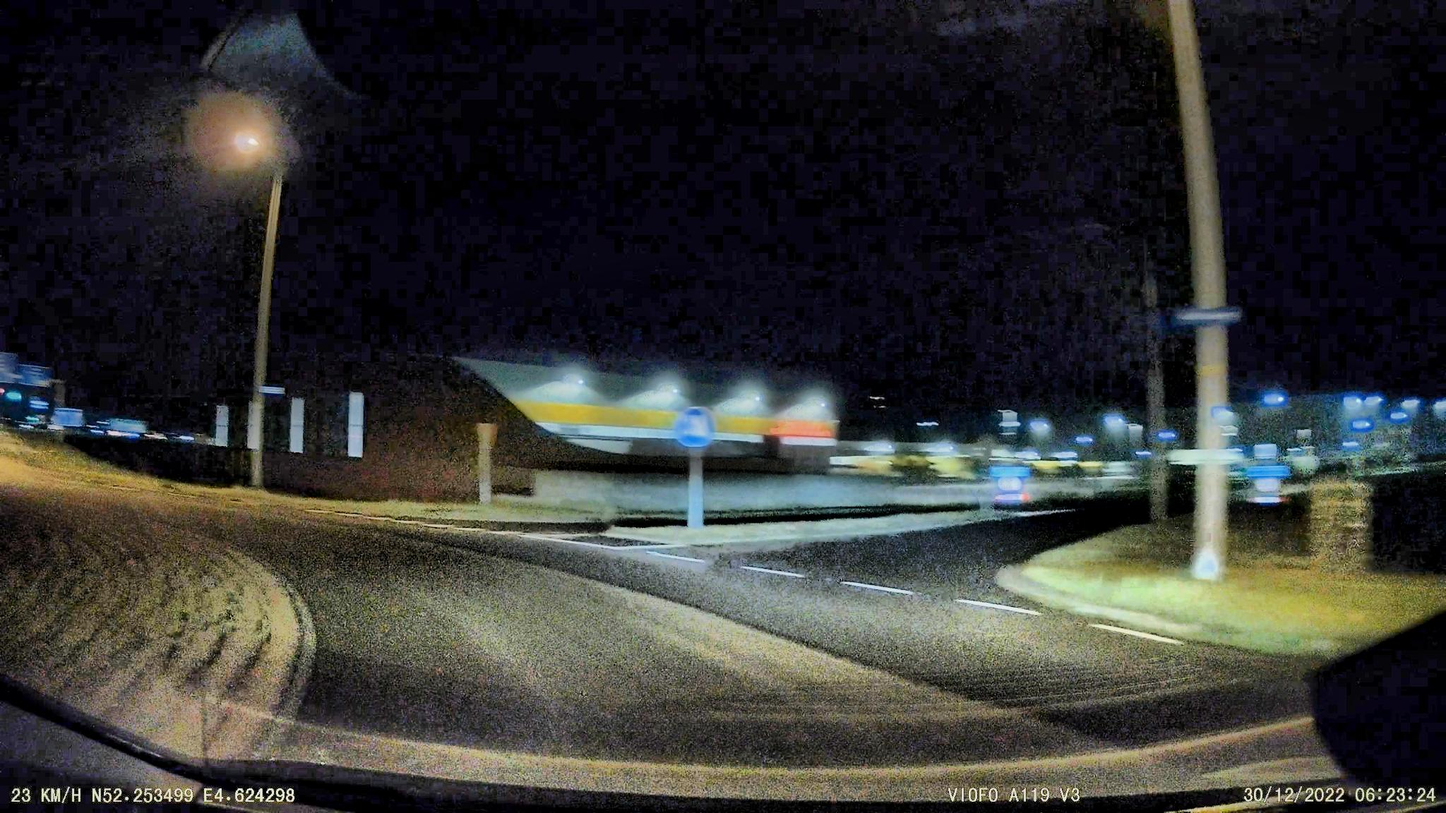Roads: (0, 442, 1314, 769)
